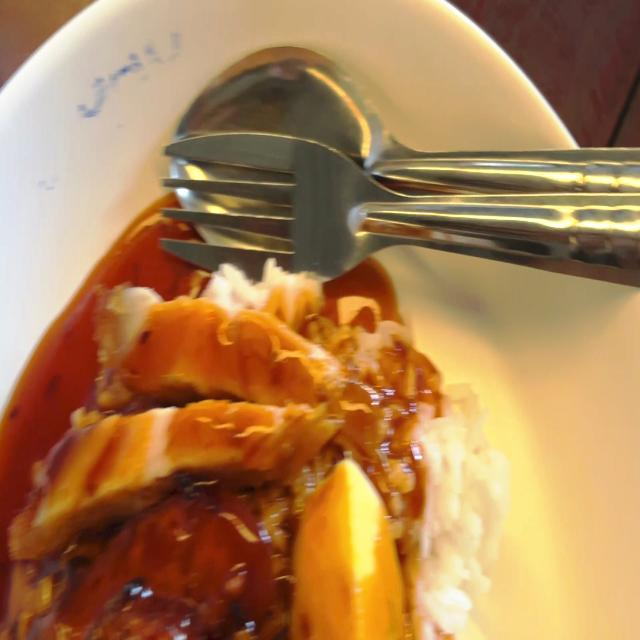boiled_egg: (297, 460, 402, 640)
chainese_sausage: (55, 509, 273, 634)
crispy_pork: (10, 280, 337, 492)
red_pork_and_crispy_pork: (0, 254, 503, 640)
